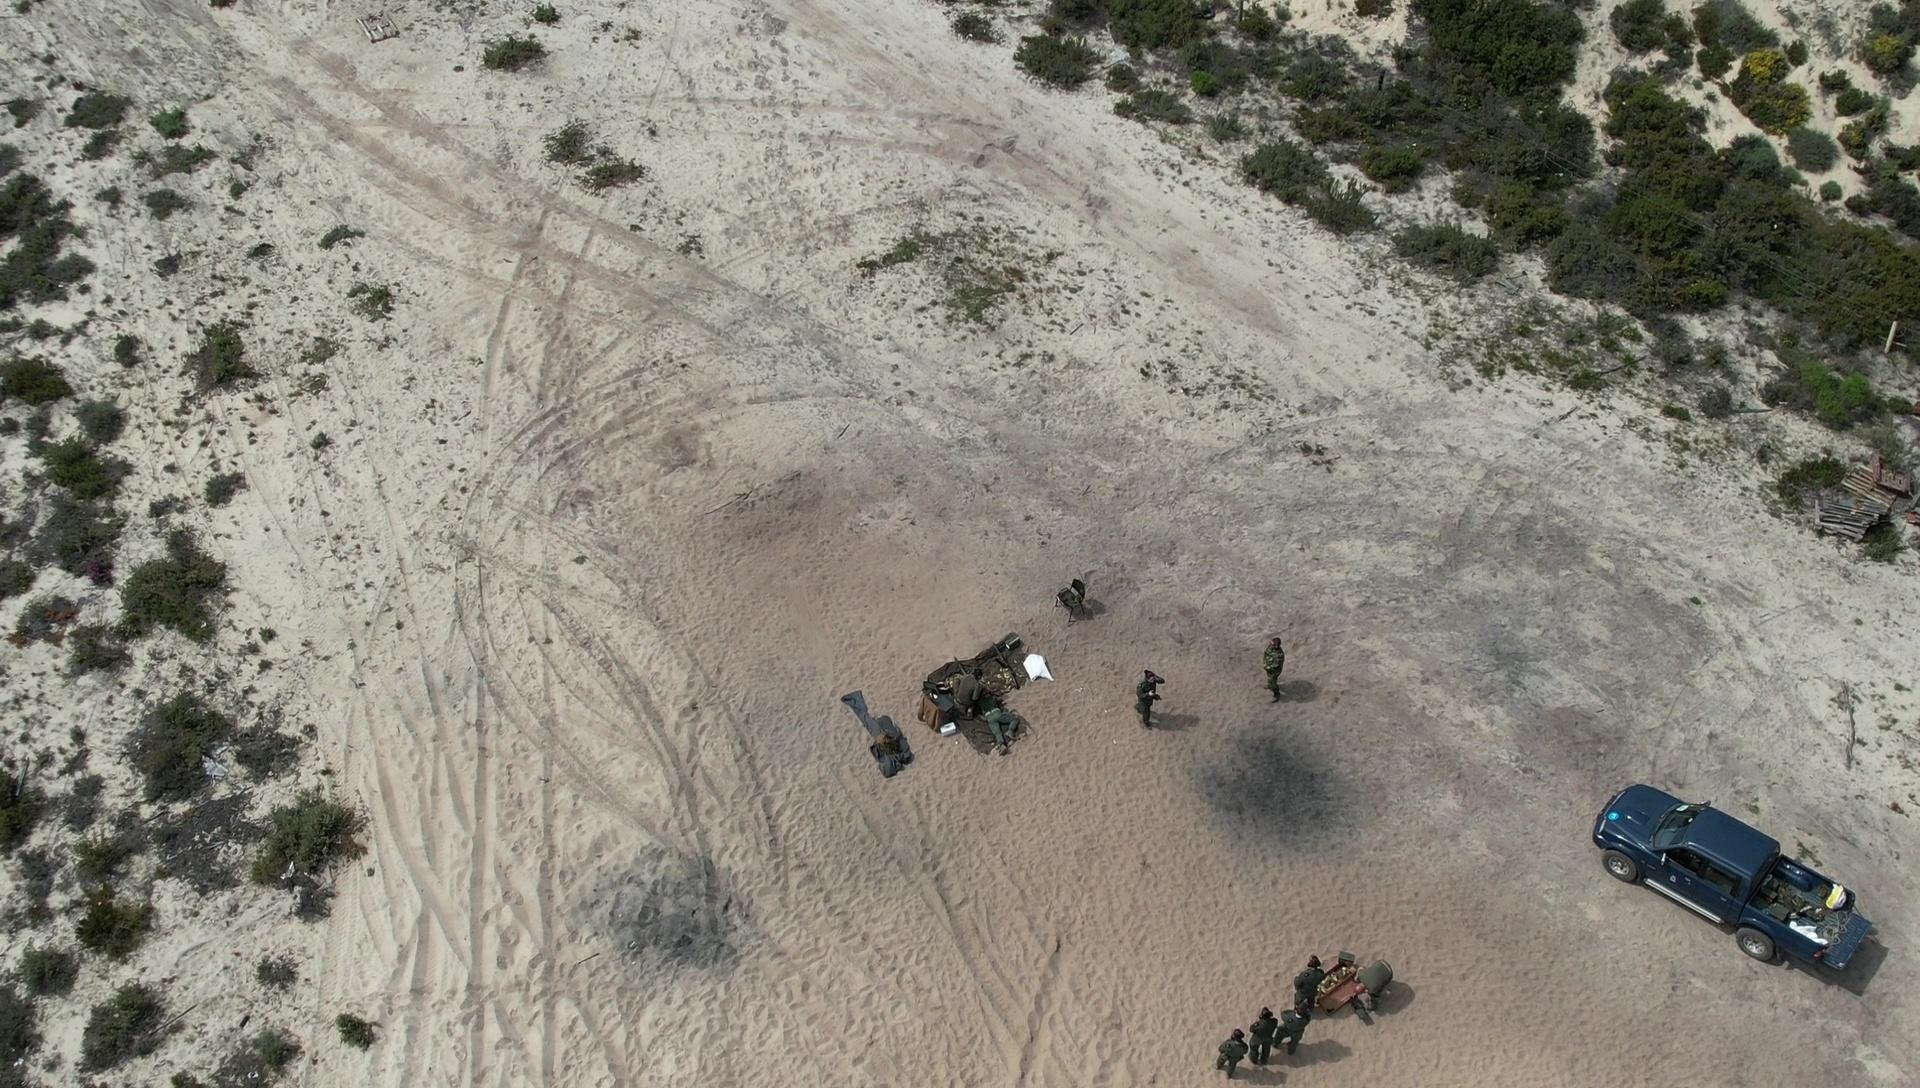Soldier: (1250, 629, 1302, 717), (976, 688, 1035, 762), (1124, 663, 1178, 739), (1346, 951, 1410, 1012), (943, 661, 993, 729), (1208, 1015, 1257, 1085), (1265, 986, 1313, 1055), (1288, 940, 1332, 1004), (1255, 1006, 1280, 1063)
